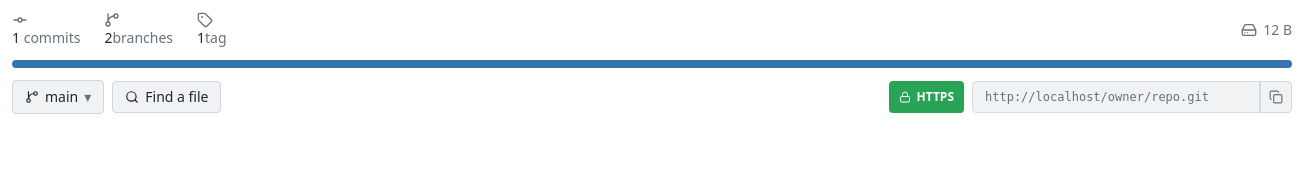
Scenario: RepoStats › expands the language breakdown
The image size is (1304, 172).
Click the button named "Python: 100%". click: click(652, 64)
box: [12, 60, 1292, 68]
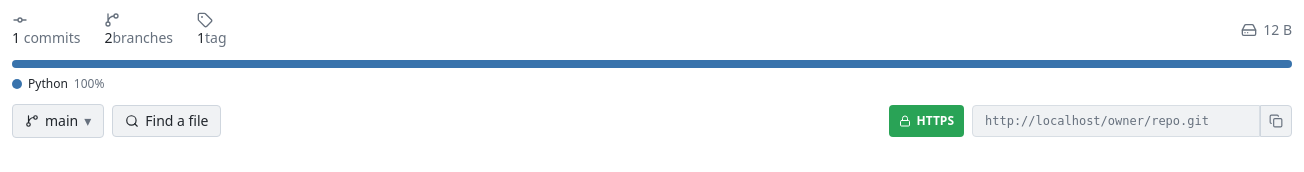
Expected: the text "Python" is shown, [28, 76, 68, 92]
Expected: the text "100%" is shown, [74, 76, 104, 92]
